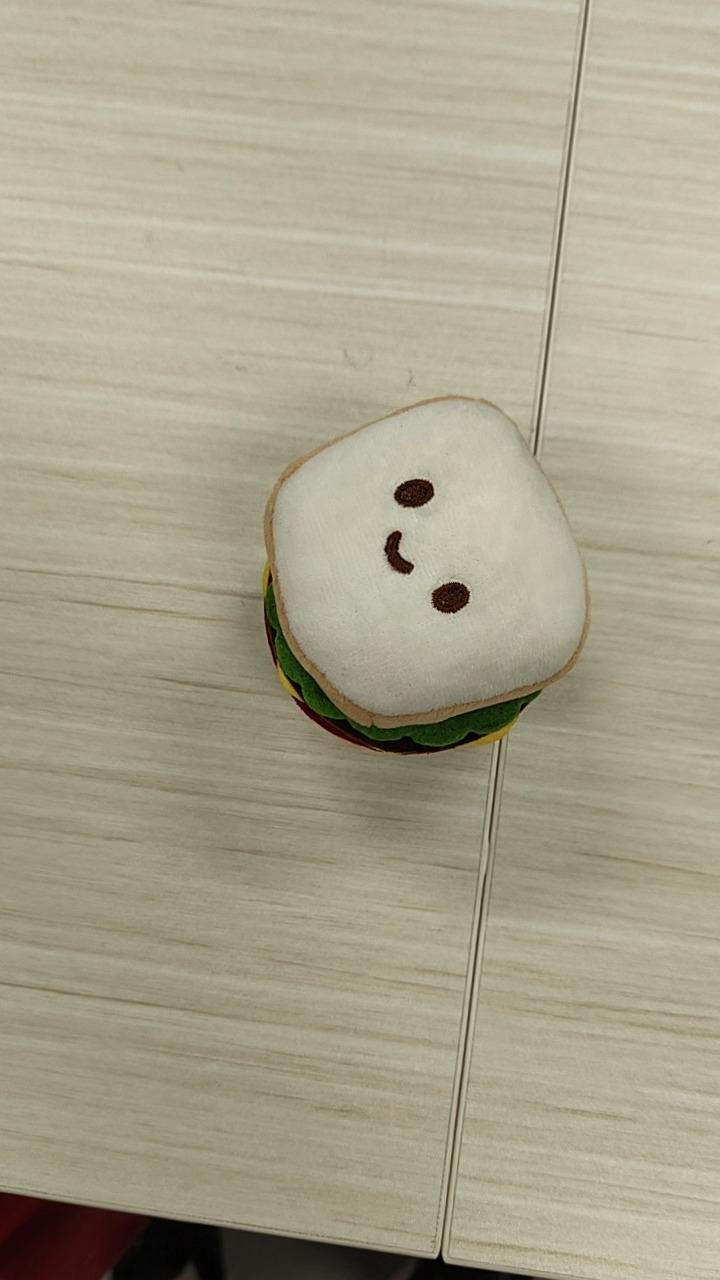objects: (260, 391, 590, 757)
